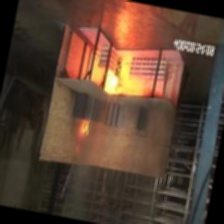fire: (73, 60, 135, 148)
